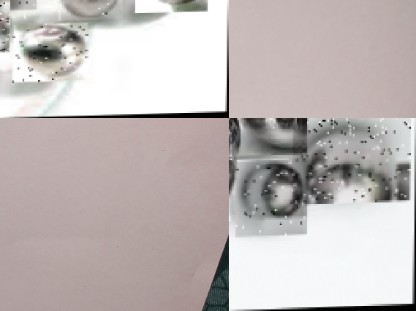ironball: (292, 118, 410, 206), (235, 159, 307, 237), (12, 23, 87, 82), (228, 118, 306, 157), (58, 0, 122, 21), (134, 0, 207, 14), (0, 0, 10, 52), (228, 132, 231, 222), (10, 0, 36, 10)
